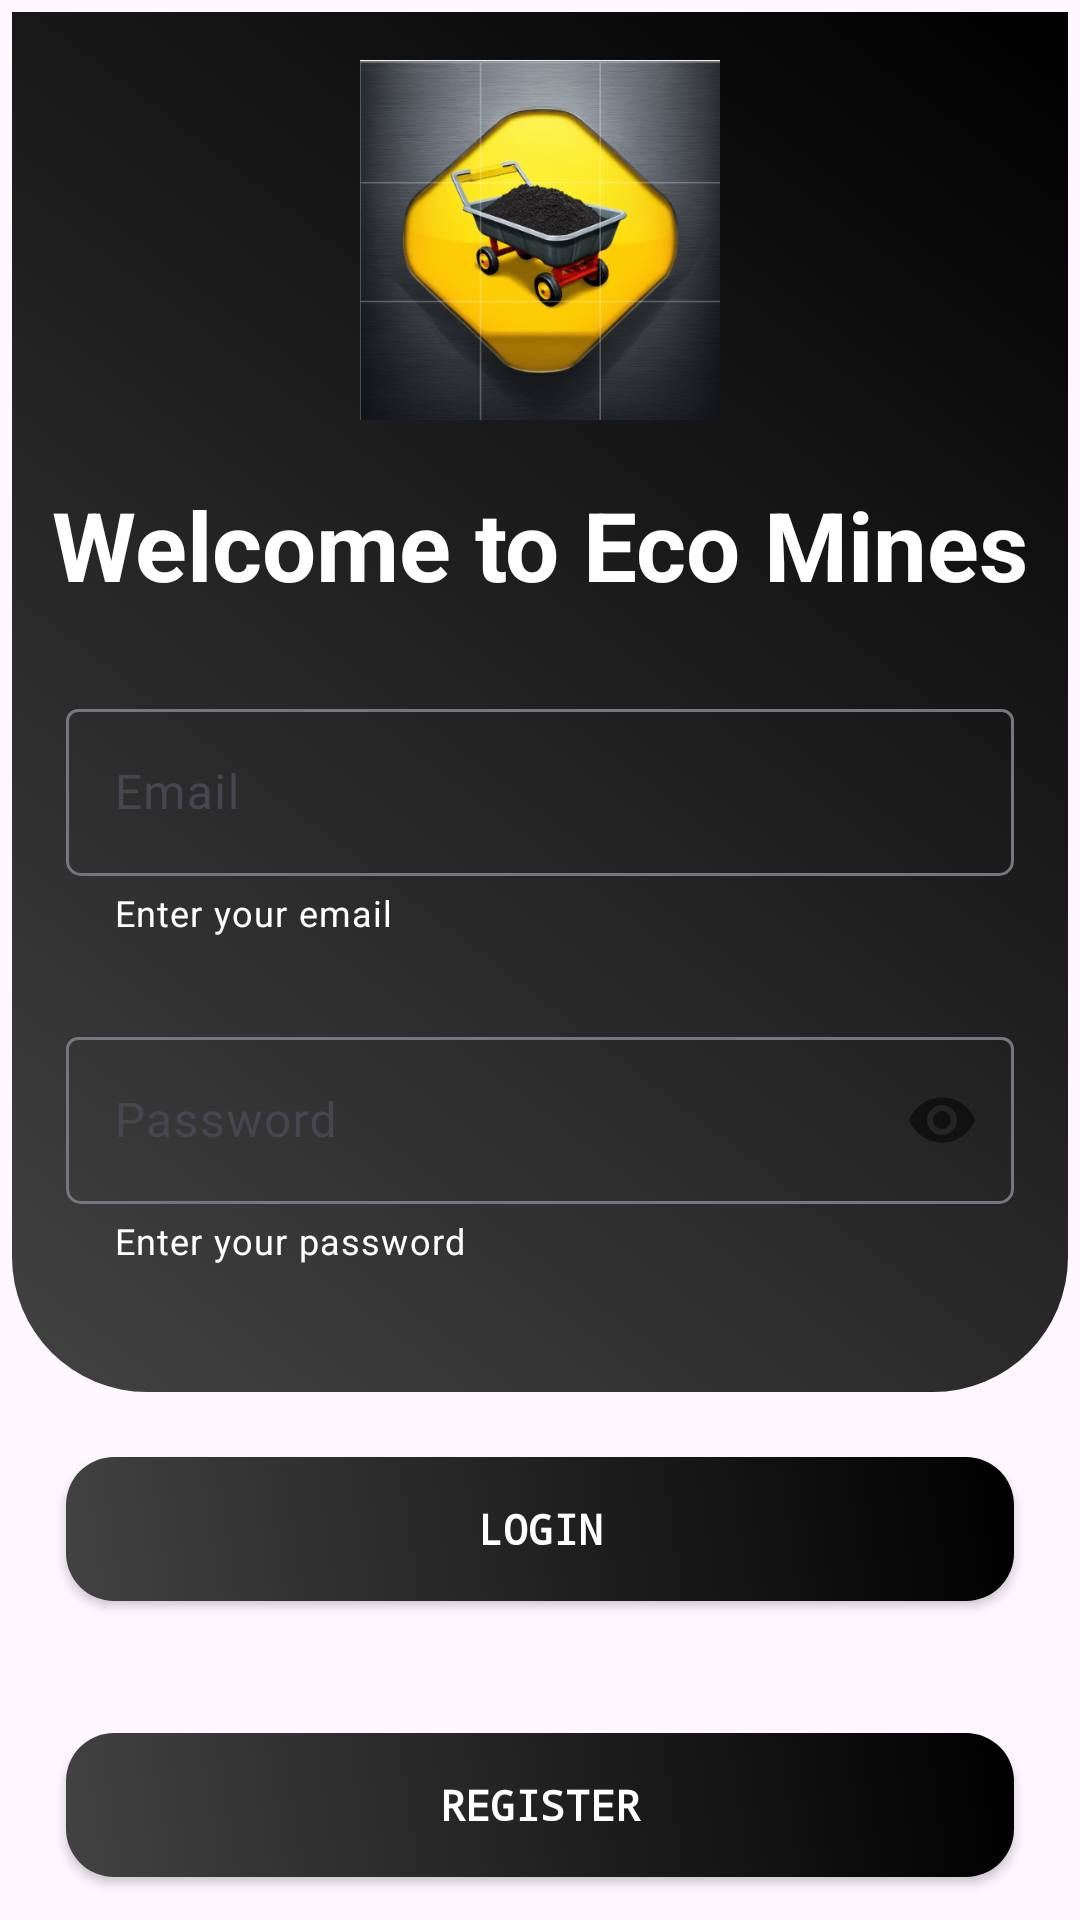

Icon click points for this 1080px×1920px phone screenshot, format (x=x, y=y):
coal mines: (x=540, y=240)
